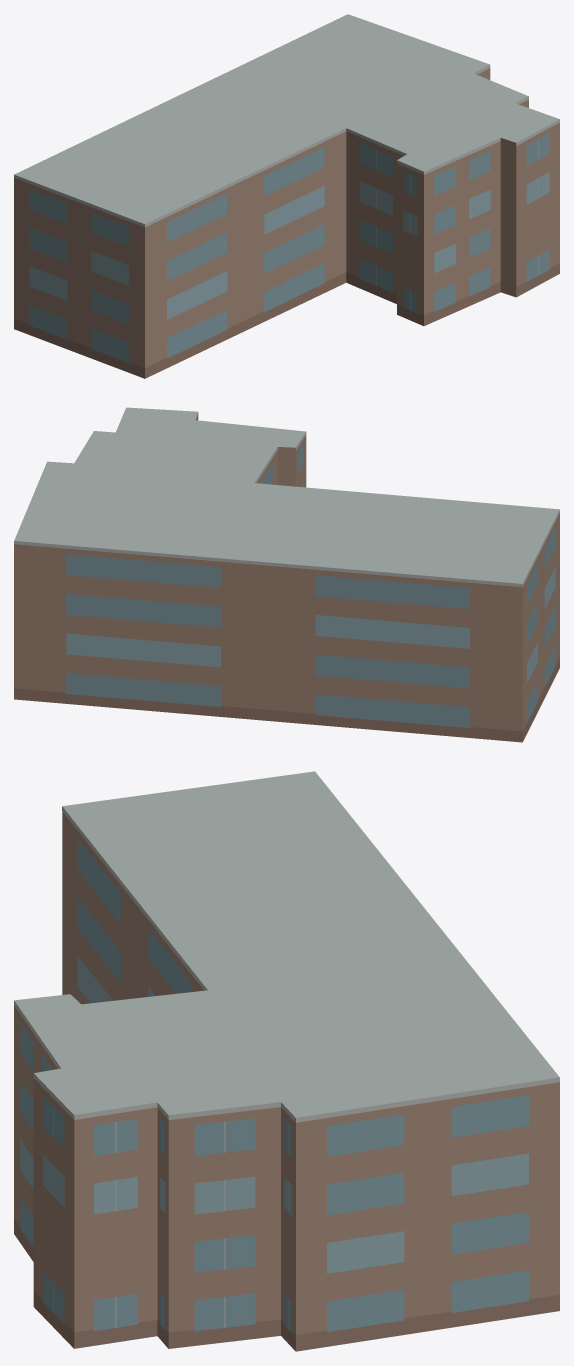
Rendered from survey-upis-32969220.glb.
The picture shows the model from 3 angles, top to bottom: view 1: azimuth 30°, elevation 25°; view 2: azimuth 150°, elevation 25°; view 3: azimuth 270°, elevation 25°; orthographic projection. The views are drawn at different scales.
Visible parts, largest first — view 1: survey-upis-32969220.tmp; view 2: survey-upis-32969220.tmp; view 3: survey-upis-32969220.tmp.
Part boxes in pixels (bbox=[...]): survey-upis-32969220.tmp: bbox=[14, 14, 559, 378]; survey-upis-32969220.tmp: bbox=[14, 407, 559, 742]; survey-upis-32969220.tmp: bbox=[14, 771, 559, 1351].
Size of the model in its own units: 37.56 by 11.8 by 25.
